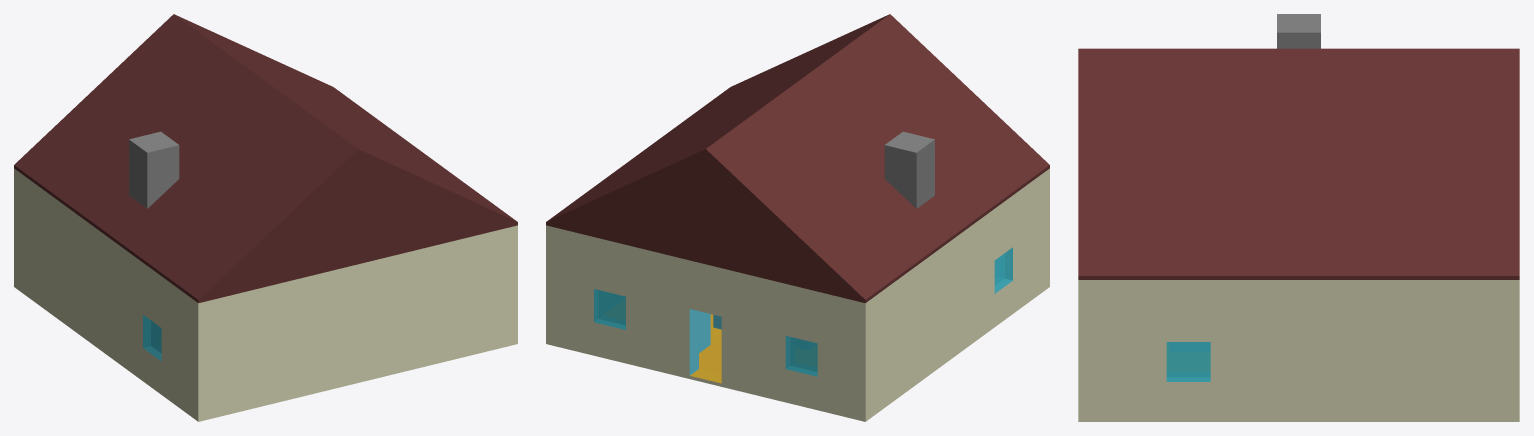
The model's file is House1s.fbx.
The picture shows the model from 3 angles, left to right: view 1: azimuth 30°, elevation 25°; view 2: azimuth 150°, elevation 25°; view 3: azimuth 270°, elevation 25°; orthographic projection. The views are drawn at different scales.
Visible parts, largest first — view 1: Roof1, House1, WindowGlass3; view 2: Roof1, House1, WindowGlass2, WindowGlass1, WindowGlass3; view 3: Roof1, House1, WindowGlass4.
Part boxes in pixels (x1,y1,x2,y2): Roof1: (14, 14, 517, 303); House1: (14, 168, 517, 421); WindowGlass3: (143, 315, 161, 361); Roof1: (546, 14, 1049, 303); House1: (546, 168, 1049, 421); WindowGlass2: (785, 336, 817, 376); WindowGlass1: (594, 289, 625, 329); WindowGlass3: (994, 247, 1012, 293); Roof1: (1078, 14, 1519, 279); House1: (1078, 280, 1519, 421); WindowGlass4: (1166, 342, 1210, 381).
Bounding box in the file's own units: 2000 × 1400 × 2000.
